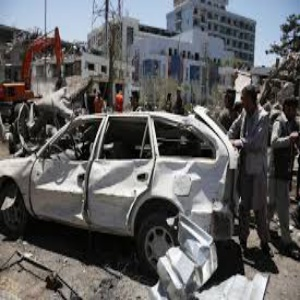door: (38, 166, 139, 220)
